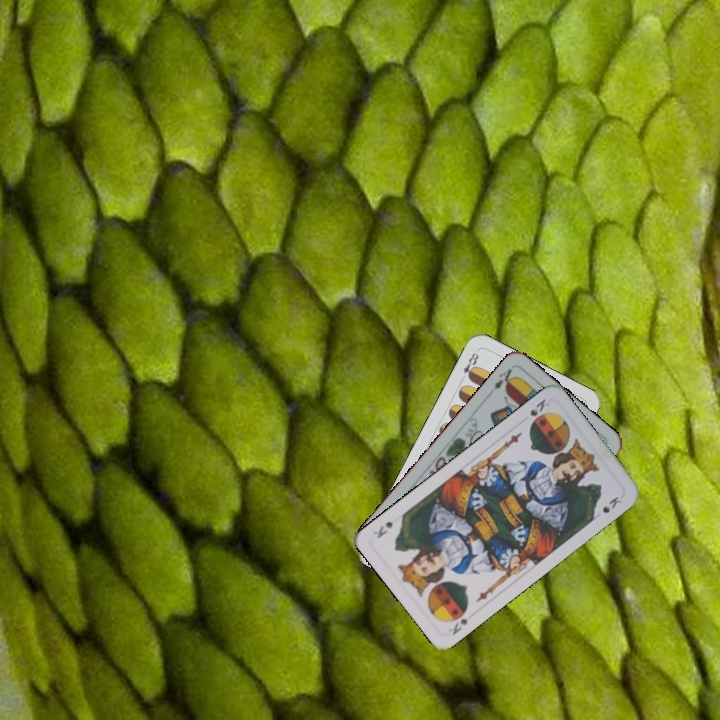E8: (456, 348, 481, 384)
EA: (485, 365, 518, 397)
SK: (445, 614, 470, 638), (526, 394, 548, 419)
